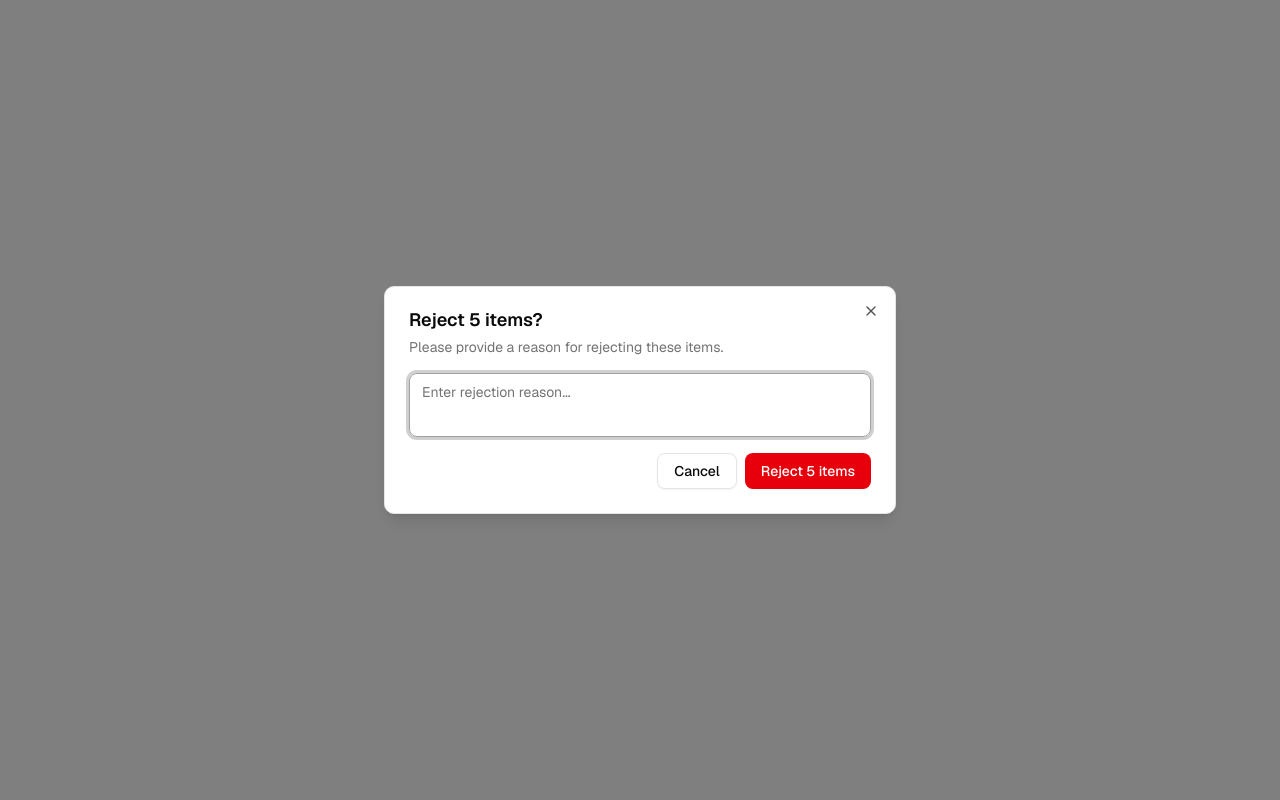
Scenario: RejectReasonDialog › should clear textarea and error when Cancel is clicked
This screenshot has width=1280, height=800.
Step 1. Type "Test" into the text box with placeholder "Enter rejection reason..." → {"x": 640, "y": 405}, box left=409, top=373, right=871, bottom=437
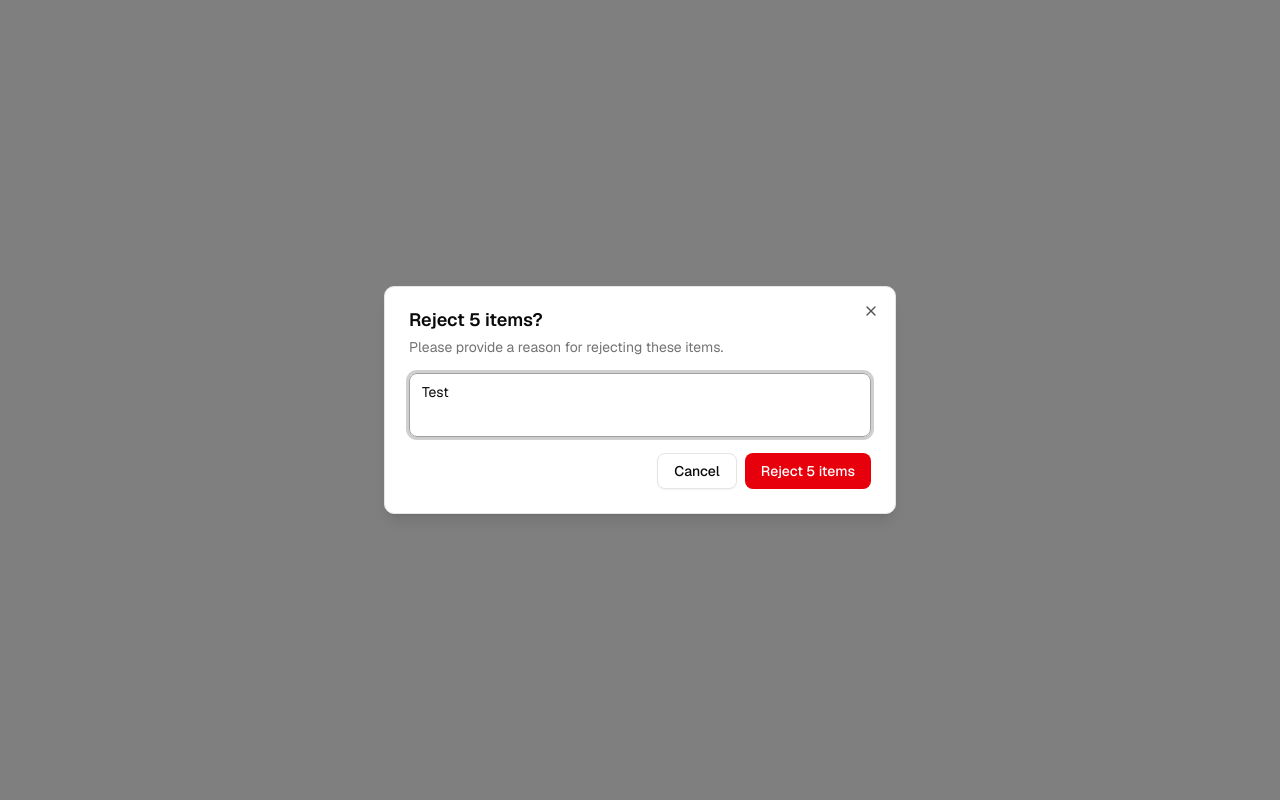
Step 2. Click the button "Reject 5 items" → {"x": 808, "y": 471}, box left=745, top=453, right=871, bottom=489
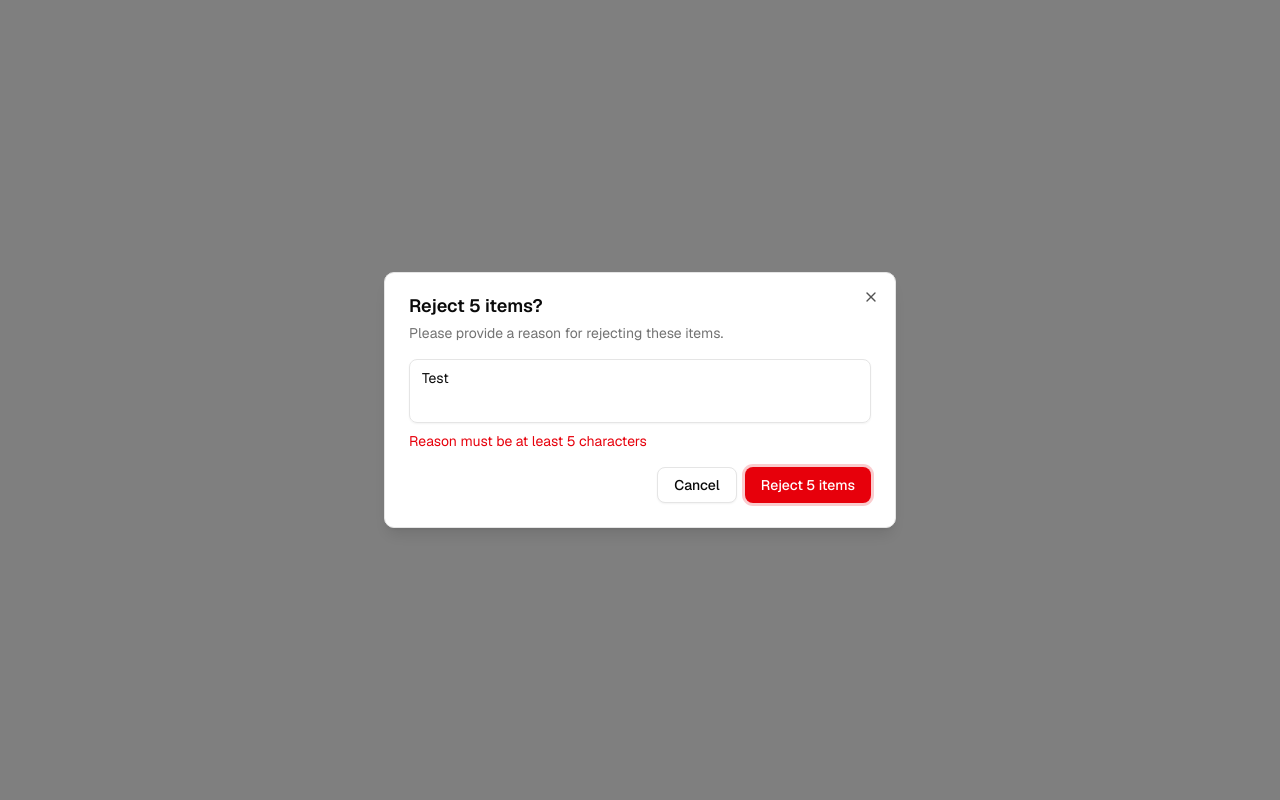
Check: the text "Reason must be at least 5 characters" is shown, box left=409, top=432, right=647, bottom=450
Step 3. Click the button "Cancel" → {"x": 697, "y": 485}, box left=657, top=467, right=737, bottom=503
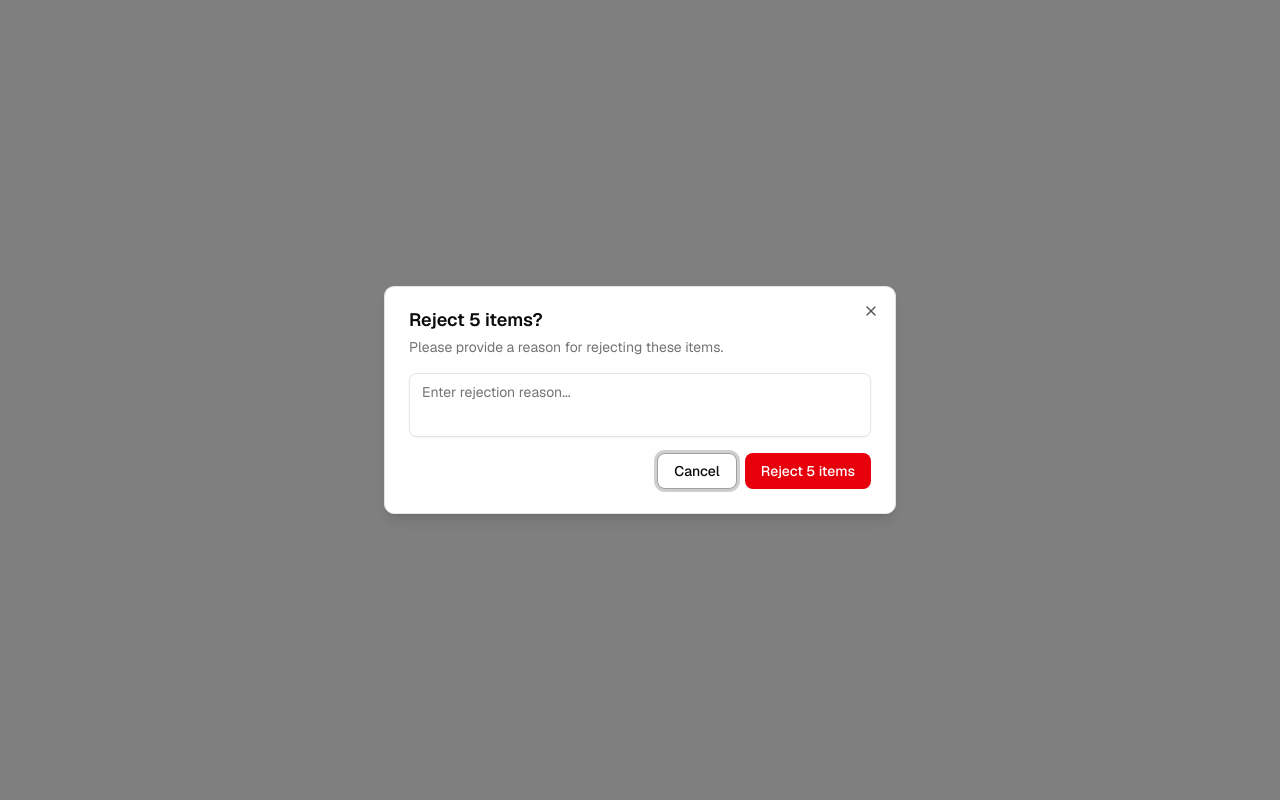
Check: the text box with placeholder "Enter rejection reason..." is empty, box left=409, top=373, right=871, bottom=437
